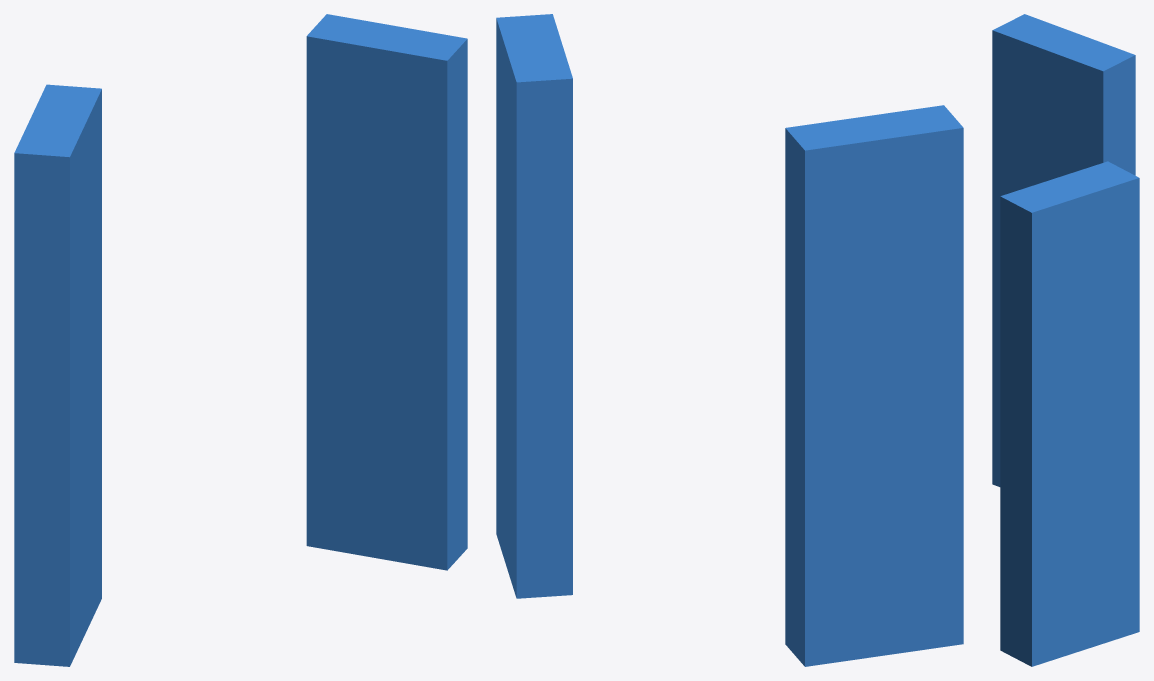
File: Collision_WindowShutters_Thin_Flat_Open.fbx
3 views of the same model, side by side, from view 1: azimuth 30°, elevation 25°; view 2: azimuth 150°, elevation 25°; view 3: azimuth 270°, elevation 25° (orthographic). The views are drawn at different scales.
Parts seen in each view (by area): view 1: UCX_WindowShutters_Thin_Flat_Open_1; view 2: UCX_WindowShutters_Thin_Flat_Open_1; view 3: UCX_WindowShutters_Thin_Flat_Open_1.
Boxes of the visible parts, x1,y1,x2,y2 form: UCX_WindowShutters_Thin_Flat_Open_1: [14, 14, 467, 666]; UCX_WindowShutters_Thin_Flat_Open_1: [496, 14, 963, 666]; UCX_WindowShutters_Thin_Flat_Open_1: [992, 14, 1139, 666].
Size of the model in its own units: 137 by 146 by 42.91.
